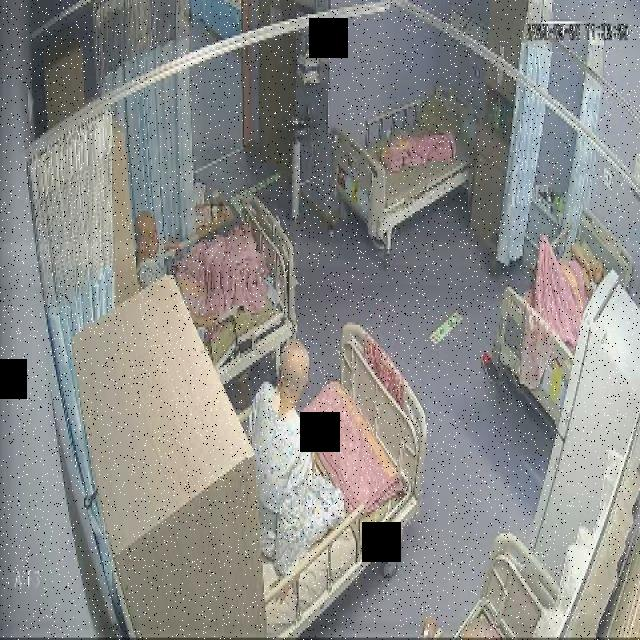bed: (253, 324, 428, 640), (494, 206, 636, 430), (170, 196, 295, 387), (332, 84, 473, 239)
lie: (538, 243, 608, 323)
patient: (248, 340, 347, 602), (134, 208, 220, 336), (572, 242, 606, 304)
sit: (248, 340, 346, 601), (133, 207, 264, 332)
